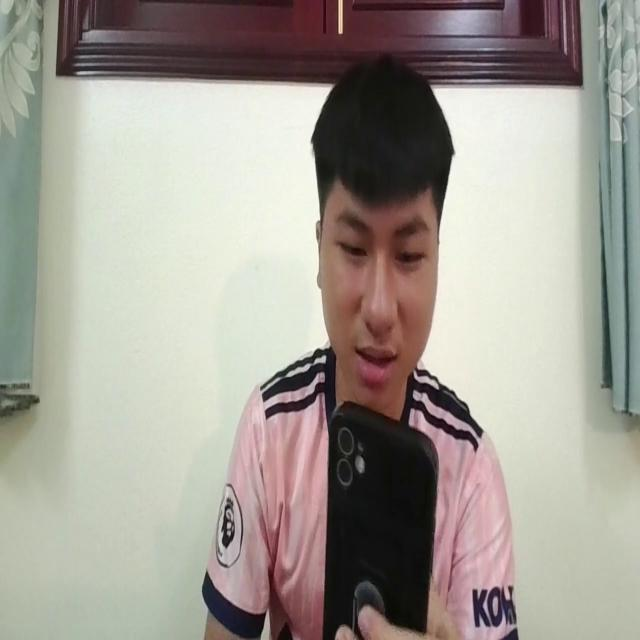phone: (322, 393, 441, 640)
student: (199, 50, 514, 640)
